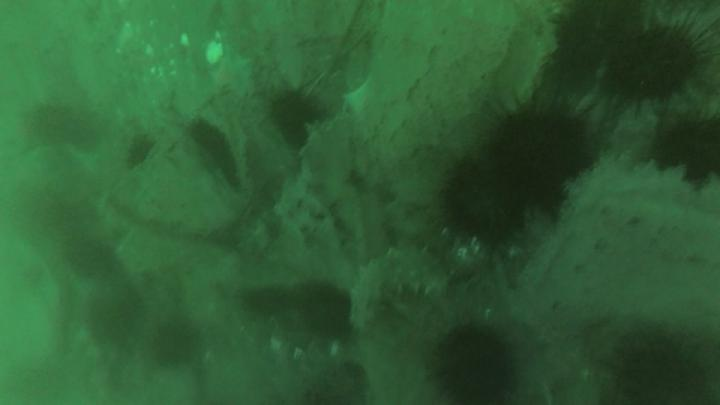echinus: (489, 109, 587, 194), (432, 324, 516, 405), (608, 30, 703, 95), (443, 165, 523, 237), (610, 350, 710, 405), (653, 116, 720, 180), (565, 2, 639, 42), (84, 292, 138, 345), (271, 93, 327, 144), (303, 287, 354, 338), (550, 40, 600, 82), (152, 323, 193, 365)
holothurian: (358, 248, 443, 331)
